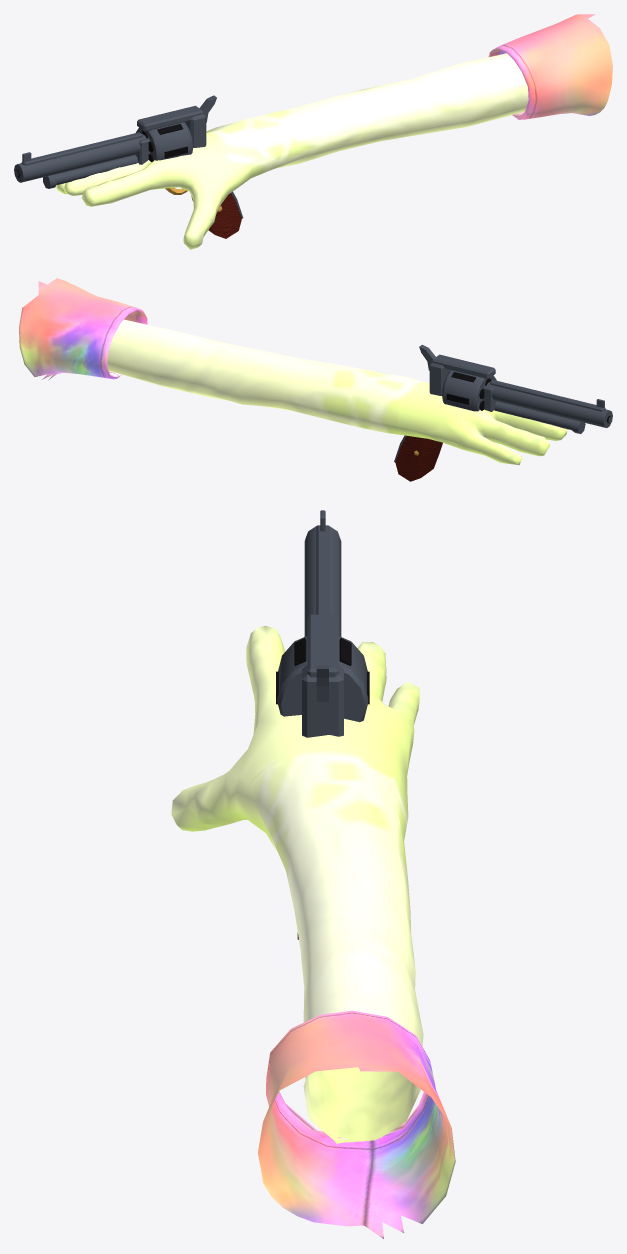
File: tb_exec2_arm.glb
3 views of the same model, one above another, from view 1: azimuth 30°, elevation 25°; view 2: azimuth 150°, elevation 25°; view 3: azimuth 270°, elevation 25° (orthographic). The views are drawn at different scales.
Parts seen in each view (by area): view 1: exec_arm; view 2: exec_arm; view 3: exec_arm.
Part boxes in pixels (left/top/right/bottom): exec_arm: left=14, top=14, right=612, bottom=249; exec_arm: left=19, top=278, right=612, bottom=481; exec_arm: left=171, top=510, right=455, bottom=1238.
Bounding box in the file's own units: 1.04 × 0.2338 × 0.2277.
Materials: 6 (3 with a texture image).
